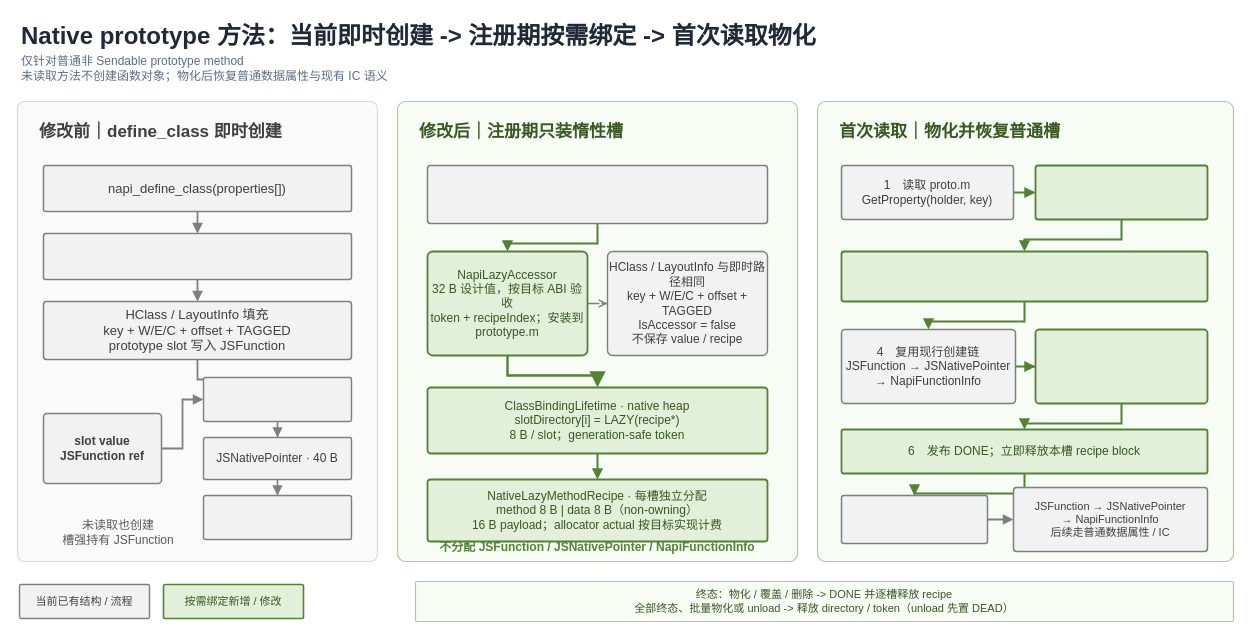
Image size: 1252x639. Some labels were removed from this diagram. The shapes that lost their labels are listed below. From the top down, each one's centre as x and y in pixels, then its label:
At point 597,194: "临时 keys[] / attrs[] / descriptors[] data property；value = NapiLazyAccessor".
At point 1121,192: "2 CallNapiLazyGet token + index + 当前 key".
At point 197,256: "临时 keys[] / attrs[] / descriptors[] data property；value = JSFunction".
At point 1024,276: "3 CAS：LAZY(recipe*) → MATERIALIZING(recipe*)".
At point 1121,366: "5 同槽写回 JSFunction HClass / LayoutInfo 不变 显式 prototype / IC 失效".
At point 277,399: "JSFunction 112 / 144 B（快照）".
At point 277,517: "NapiFunctionInfo 32 / 40 B（ABI）".
At point 914,519: "prototype.m 普通数据属性".
